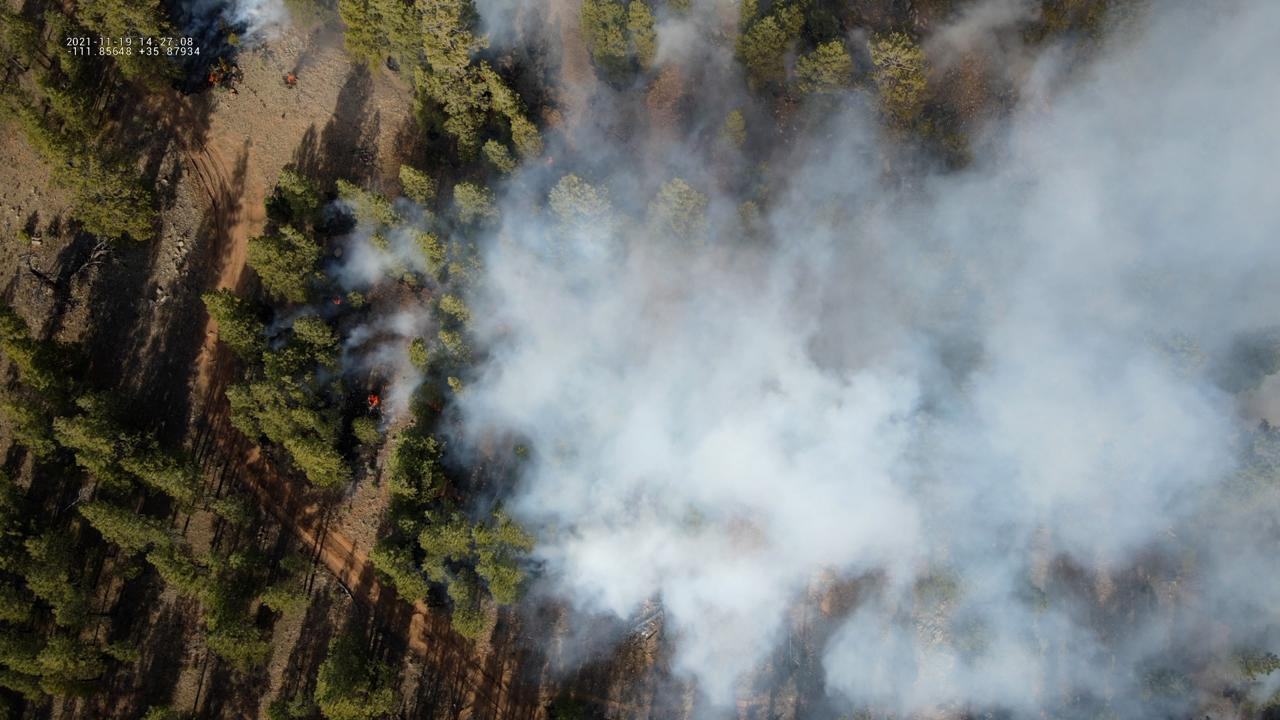fire: (367, 393, 379, 409), (208, 70, 218, 86), (330, 295, 341, 305), (286, 73, 295, 83), (546, 155, 553, 164)
smoke: (258, 0, 1280, 720), (165, 0, 282, 92)
